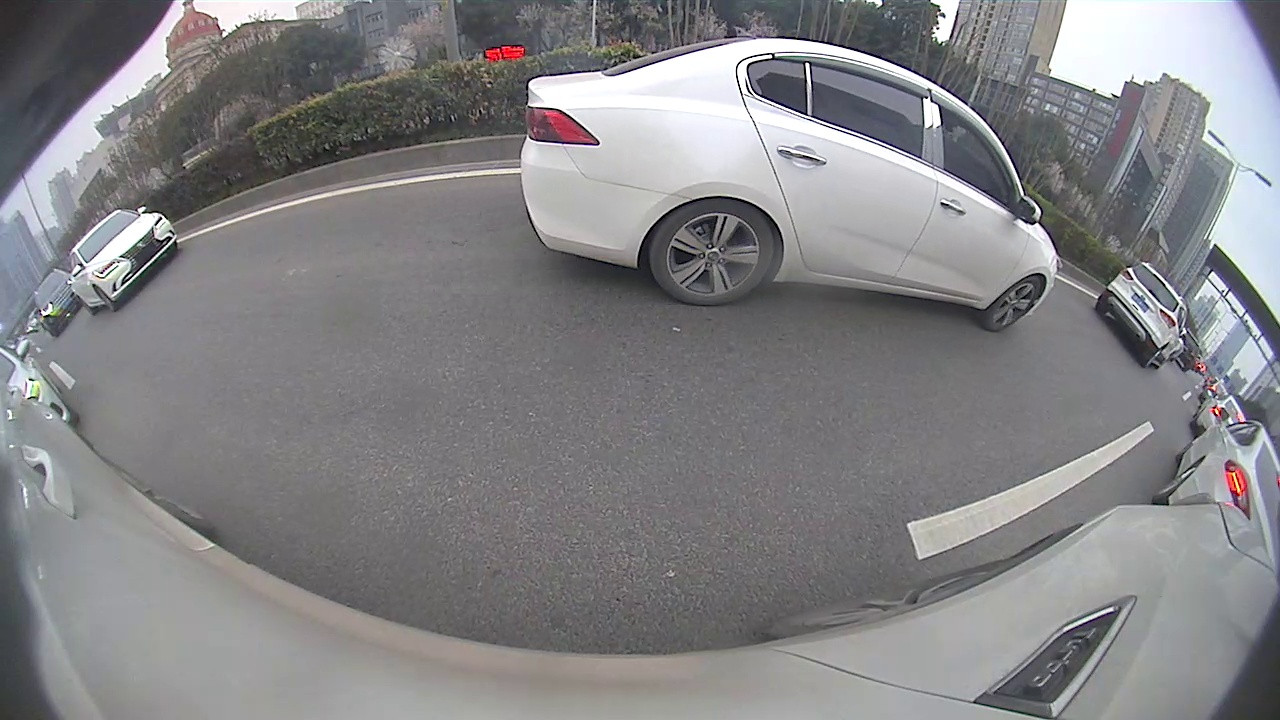car: (520, 35, 1060, 335), (1149, 405, 1278, 551), (65, 204, 180, 314), (1095, 258, 1191, 371)
front: (983, 273, 1046, 332), (93, 286, 117, 314)
rear: (648, 197, 775, 310)
